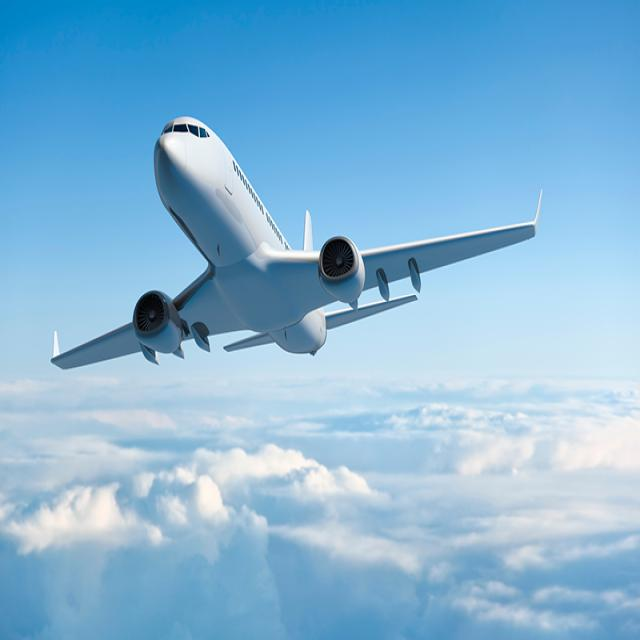aircraft: (24, 89, 575, 455)
